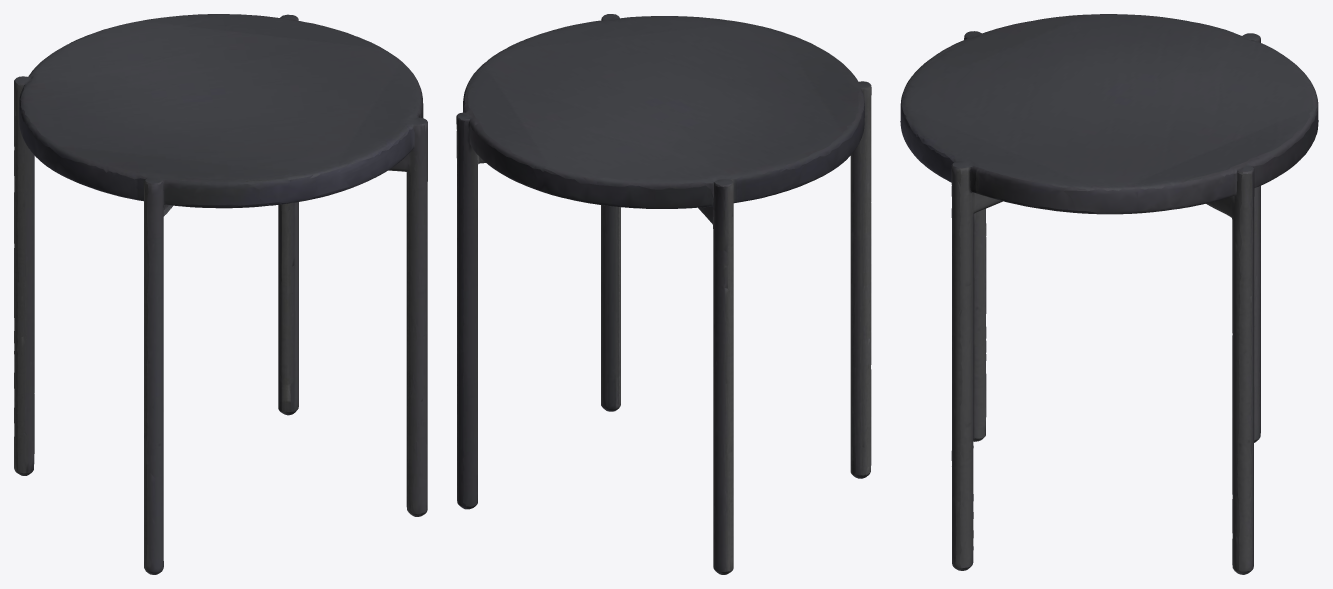
File: L_SIDE.cyberpunk.glb
3 views of the same model, side by side, from view 1: azimuth 30°, elevation 25°; view 2: azimuth 150°, elevation 25°; view 3: azimuth 270°, elevation 25° (orthographic). The views are drawn at different scales.
Parts seen in each view (by area): view 1: geometry_0; view 2: geometry_0; view 3: geometry_0.
Part boxes in pixels (x1,y1,x2,y2): geometry_0: (14, 14, 427, 574); geometry_0: (456, 14, 871, 574); geometry_0: (900, 14, 1318, 574).
Bounding box in the file's own units: 0.5566 × 0.6 × 0.5572.
1 material, 1 textured.
